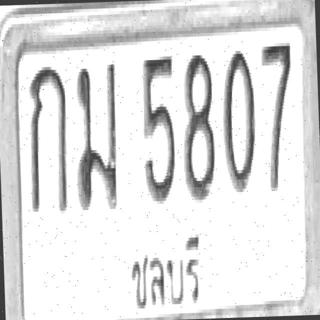A01: (25, 63, 70, 215)
A33: (72, 60, 120, 212)
N00: (220, 45, 258, 194)
N05: (139, 53, 177, 204)
N07: (260, 38, 295, 192)
N08: (180, 50, 216, 202)
P13: (121, 228, 206, 315)
